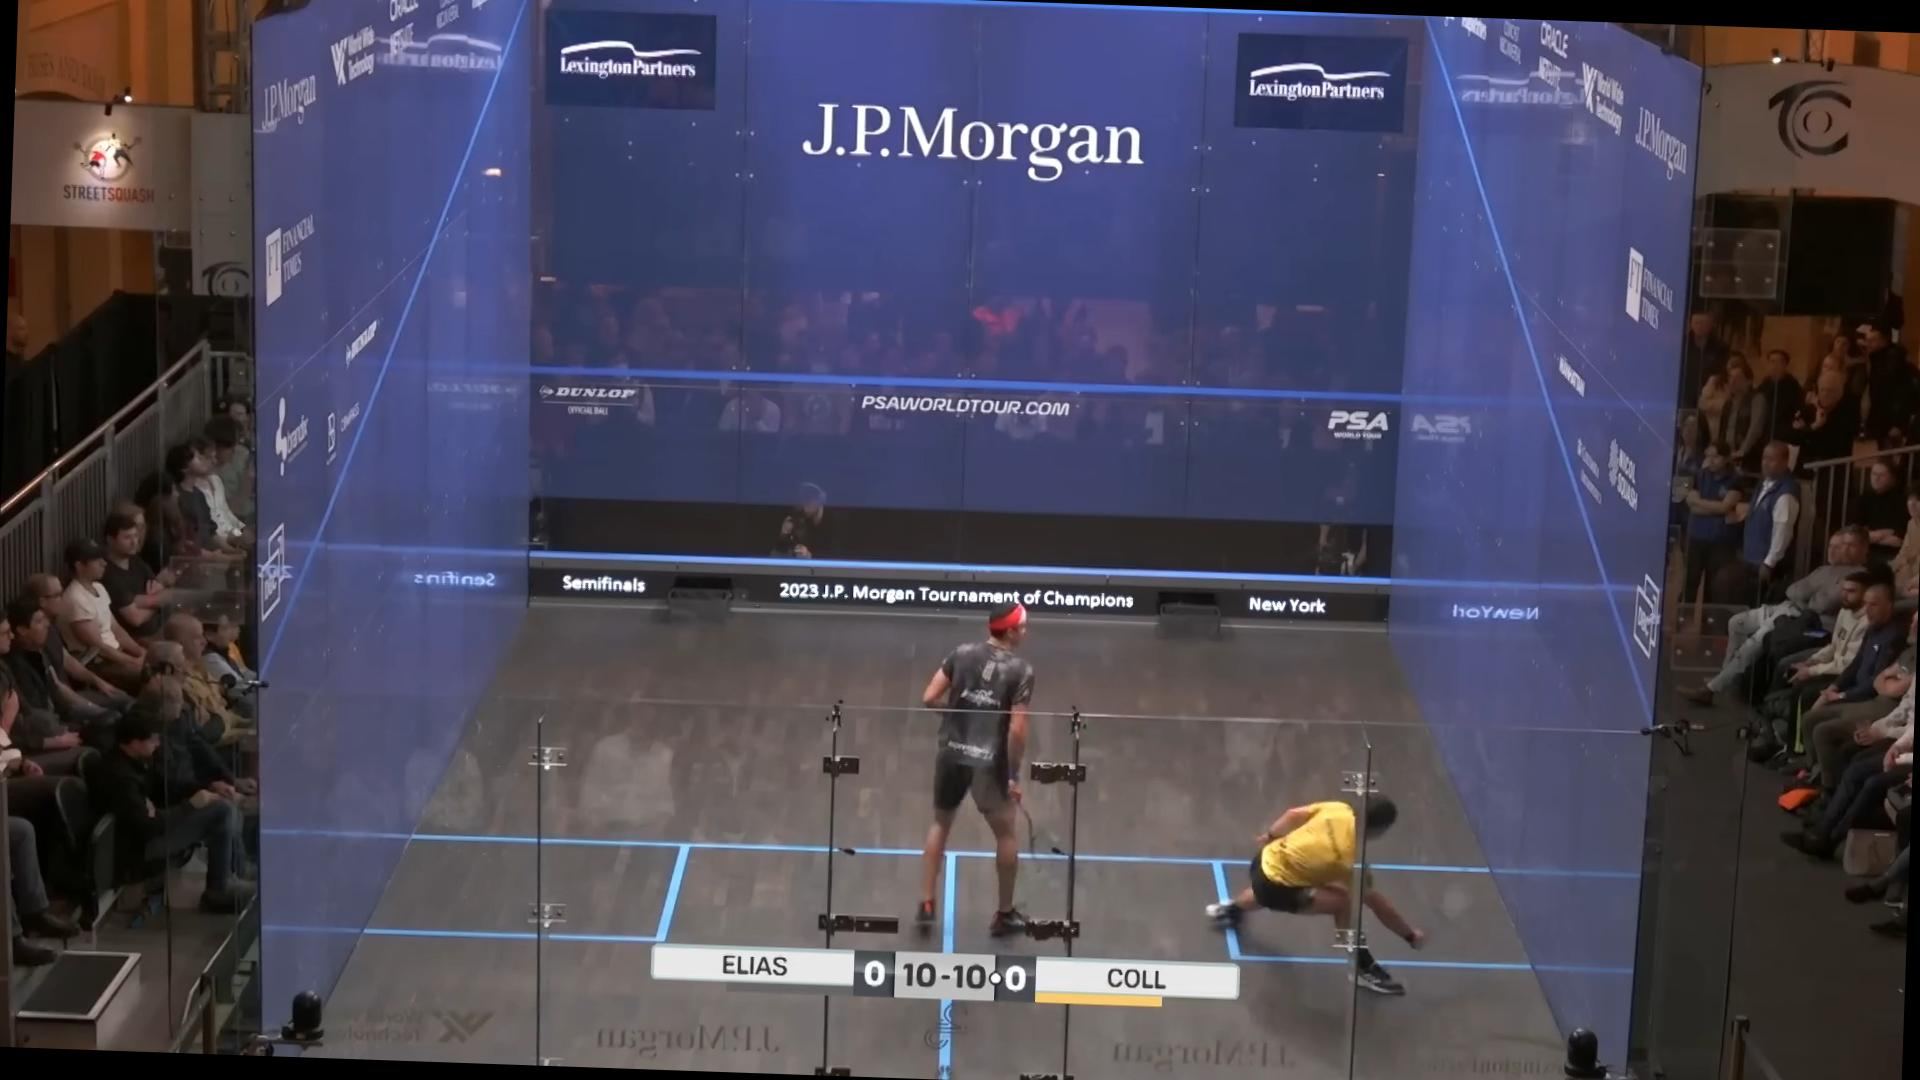Racket: (1010, 808, 1087, 903)
